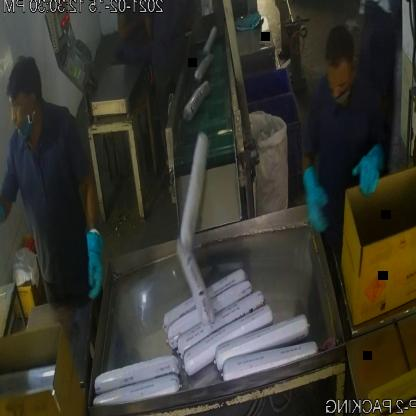glove: (296, 166, 334, 240), (348, 138, 388, 204), (81, 224, 106, 304)
no_glove: (115, 0, 150, 43)
